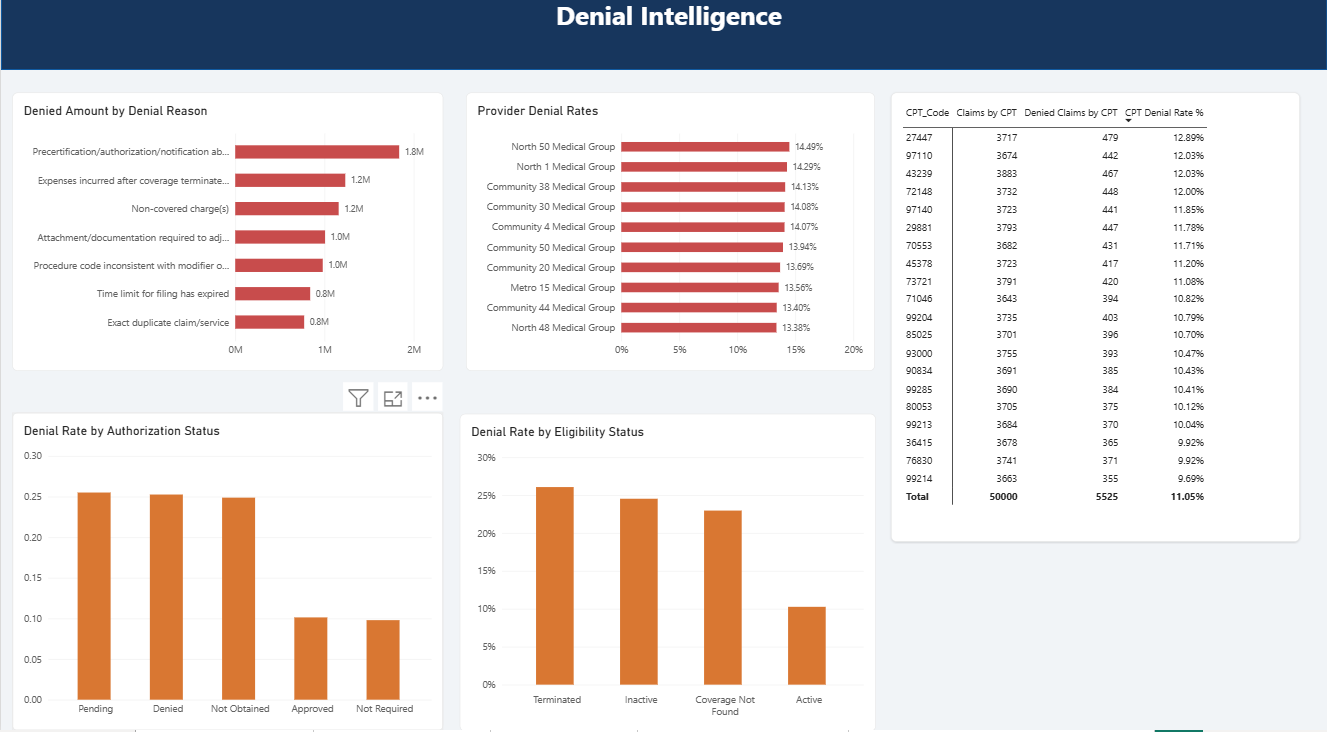

Layout of this report page (visuals, bound fields, positions):
{"tool":"powerbi","page":{"name":"Denial Intelligence","canvas":[1920,1080],"ordinal":1},"visuals":[{"type":"clusteredBarChart","title":"Denied Amount by Denial Reason","fields":{"Category":["fact_denials.Denial_Reason_Description"],"Y":["fact_denials.Total Denied Amount"]},"box":[16,156,624.3,403.5],"z":0},{"type":"clusteredBarChart","title":"Provider Denial Rates","fields":{"Category":["dim_provider.Provider_Name"],"Y":["fact_claims.Denial Rate %"]},"box":[673.8,156.1,591.9,403.5],"z":1000},{"type":"clusteredColumnChart","title":"Denial Rate by Eligibility Status","fields":{"Category":["fact_eligibility.Coverage_Status"],"Y":["fact_eligibility.Denial Rate by Coverage %"]},"box":[664,620,602,460],"z":2000},{"type":"clusteredColumnChart","title":"Denial Rate by Authorization Status","fields":{"Category":["fact_authorization.Authorization_Status"],"Y":["fact_authorization.Denial Rate by Authorization %"]},"box":[16,618,624.3,460.6],"z":3000},{"type":"shape","box":[0,0,1920.1,123.1],"z":4000},{"type":"textbox","box":[803.5,18.1,352.9,76],"z":5000},{"type":"pivotTable","title":"Denial Rate by CPT Code.","fields":{"Rows":["fact_service_lines.CPT_Code"],"Values":["fact_service_lines.Claims by CPT","fact_service_lines.Denied Claims by CPT","fact_service_lines.CPT Denial Rate %"]},"box":[1288,156,592,650],"z":5001}]}

Visuals, with their boxes in screenshot pixels (x1, y1, x2, y2), scaled from the page's 1920x1080 canvas onto the 1327x732 screenshot:
"Denied Amount by Denial Reason" clusteredBarChart: (x1=11, y1=106, x2=443, y2=379)
"Provider Denial Rates" clusteredBarChart: (x1=466, y1=106, x2=875, y2=379)
"Denial Rate by Eligibility Status" clusteredColumnChart: (x1=459, y1=420, x2=875, y2=731)
"Denial Rate by Authorization Status" clusteredColumnChart: (x1=11, y1=419, x2=443, y2=731)
shape: (x1=0, y1=0, x2=1326, y2=83)
textbox: (x1=555, y1=12, x2=799, y2=64)
"Denial Rate by CPT Code." pivotTable: (x1=890, y1=106, x2=1299, y2=546)
